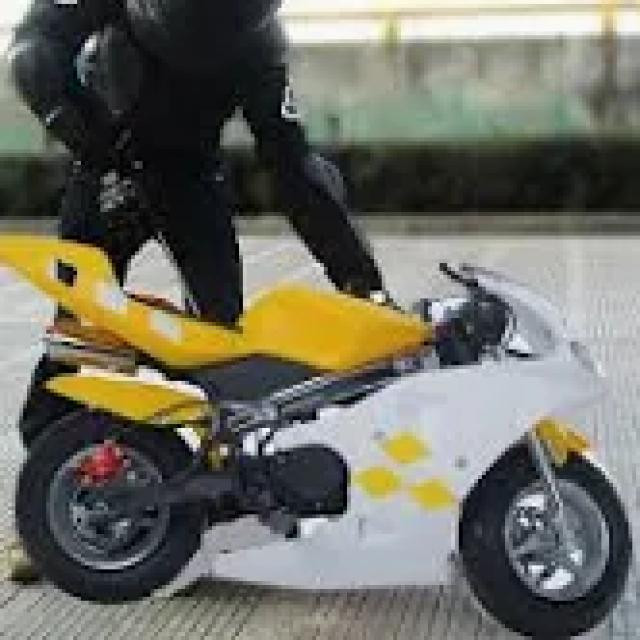motorcycle: (4, 232, 632, 636)
